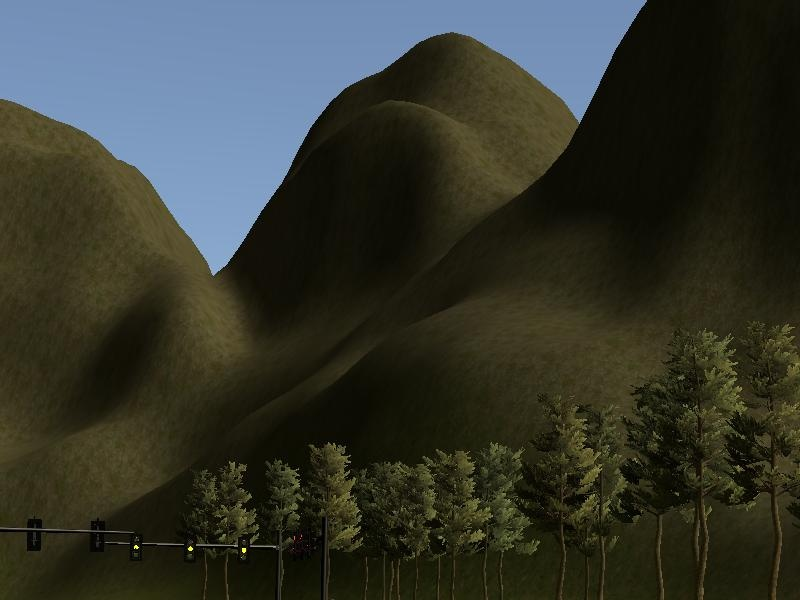yellow: (184, 533, 197, 563), (130, 533, 143, 561), (238, 537, 250, 564)
